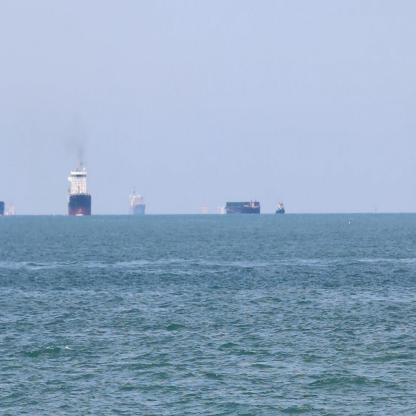Container Ship: (67, 156, 93, 219), (223, 197, 264, 217), (127, 184, 148, 219), (274, 192, 287, 217)
